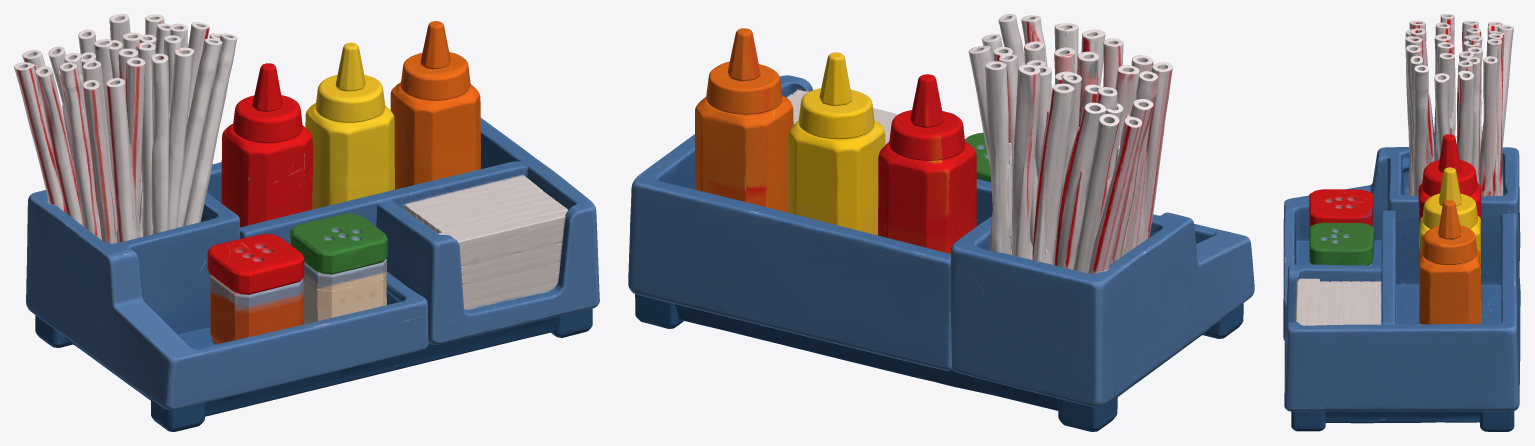
The model's file is Meshy_AI_Condiment_Station_1024133800_texture.fbx.
The picture shows the model from 3 angles, left to right: view 1: azimuth 30°, elevation 25°; view 2: azimuth 150°, elevation 25°; view 3: azimuth 270°, elevation 25°; orthographic projection. The views are drawn at different scales.
Parts seen in each view (by area): view 1: Mesh_0; view 2: Mesh_0; view 3: Mesh_0.
Part boxes in pixels (x1,y1,x2,y2): Mesh_0: [14, 14, 599, 431]; Mesh_0: [628, 14, 1254, 431]; Mesh_0: [1283, 14, 1520, 431].
Size of the model in its own units: 190 by 123 by 104.
Materials: 1 (1 with a texture image).
